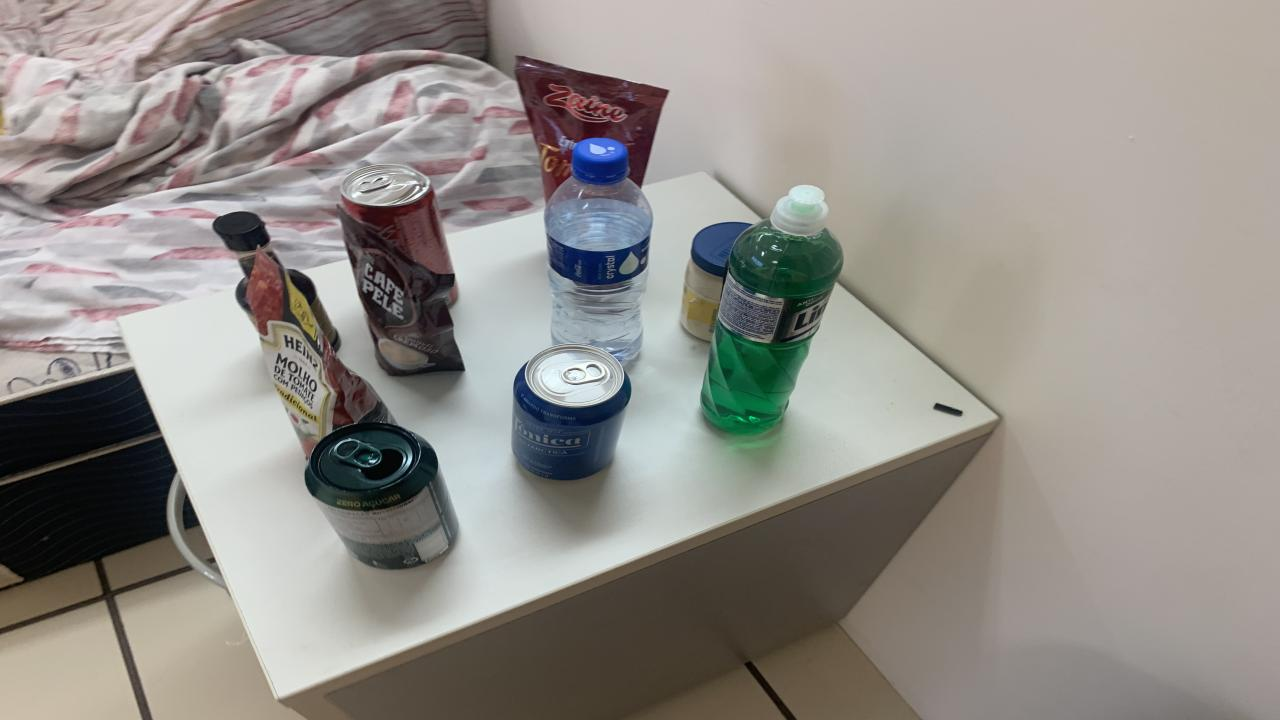Coffee-Pantry_Items: (340, 210, 465, 375)
Coke-Drinks: (340, 165, 452, 274)
Detergent-Cleanup_Items: (702, 186, 842, 433)
English_Sauce-Pantry_Items: (212, 212, 280, 317), (285, 268, 340, 351)
Guarana_Can-Drinks: (305, 422, 458, 568)
Mayonnaise-Pantry_Items: (680, 221, 750, 341)
Tomato_Sauce-Pantry_Items: (248, 249, 395, 458), (515, 56, 668, 199)
Tonic-Drinks: (512, 345, 630, 480)
Water_Bottle-Drinks: (545, 137, 652, 364)
